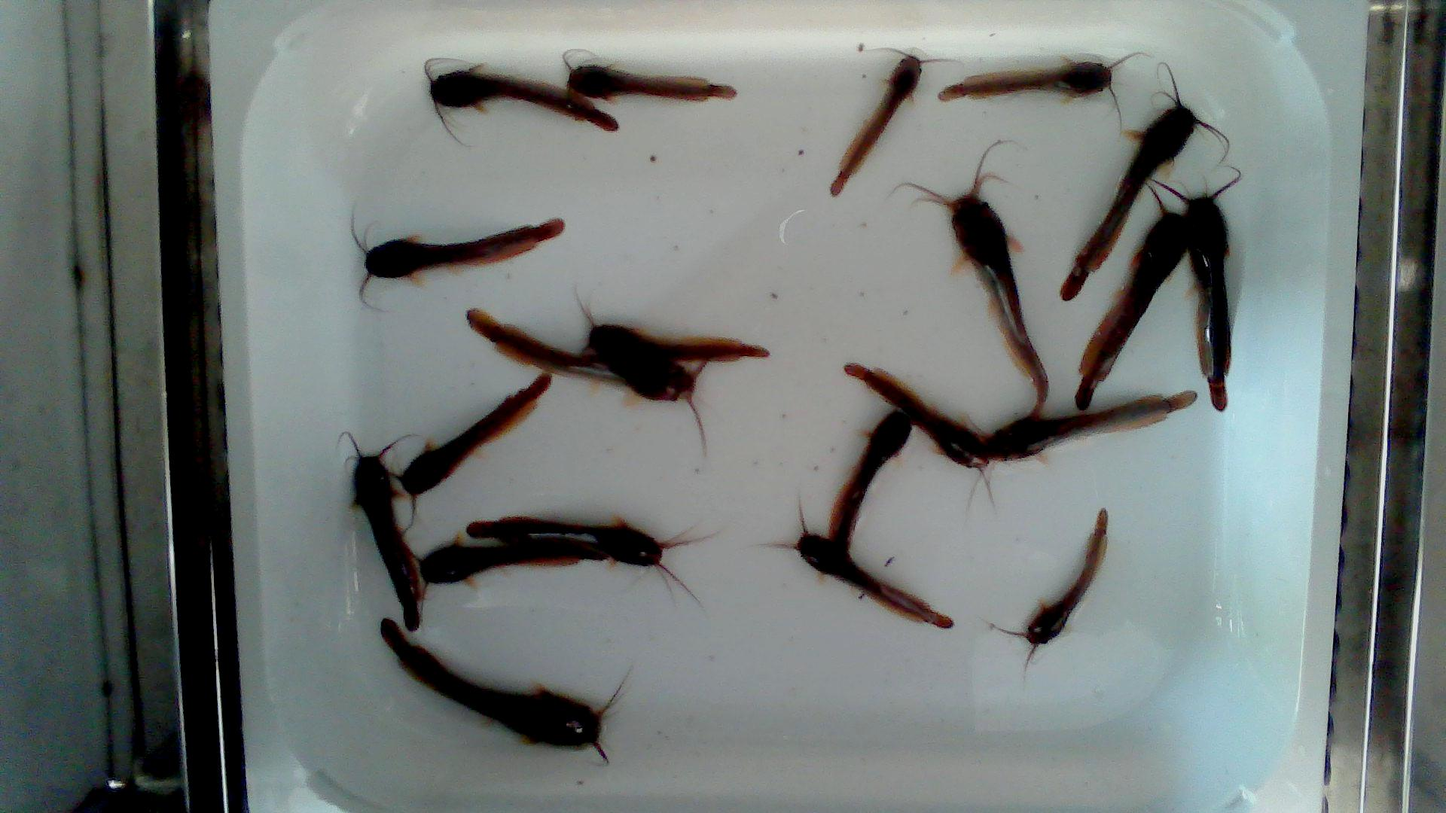lele: (889, 141, 1052, 416), (1059, 62, 1233, 302), (380, 619, 633, 767), (467, 310, 706, 418), (1074, 185, 1188, 409), (769, 507, 954, 630), (1155, 164, 1242, 411), (397, 373, 551, 511), (989, 508, 1111, 675), (842, 362, 990, 488), (470, 514, 715, 588), (352, 218, 565, 303), (832, 47, 949, 197), (423, 55, 620, 141), (938, 51, 1152, 128), (981, 388, 1198, 463), (825, 408, 913, 554), (580, 299, 771, 365), (354, 452, 425, 629), (418, 530, 609, 586), (562, 48, 739, 106)
